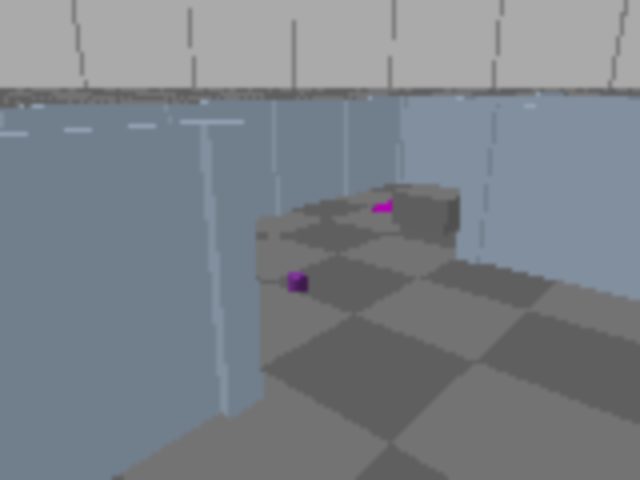puck: (287, 271, 306, 294)
